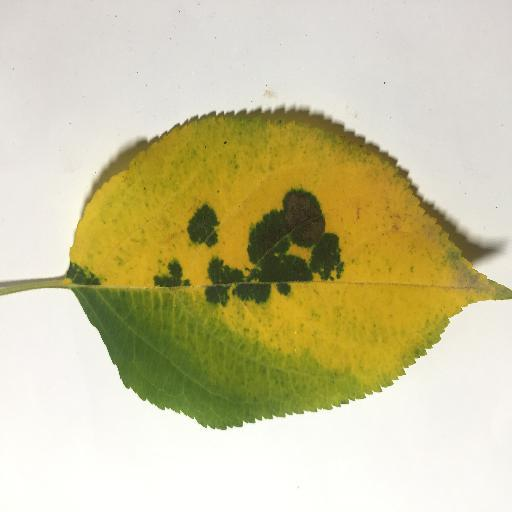Brown_Spot: (282, 196, 324, 245)
